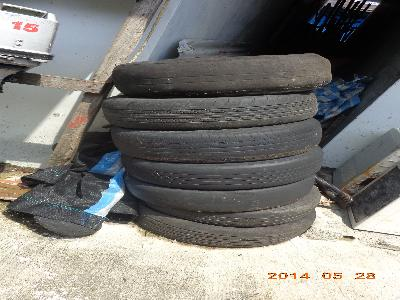tire: (113, 52, 337, 96), (108, 118, 325, 163), (120, 145, 325, 191), (134, 200, 319, 249), (101, 91, 323, 129), (123, 172, 317, 215)
